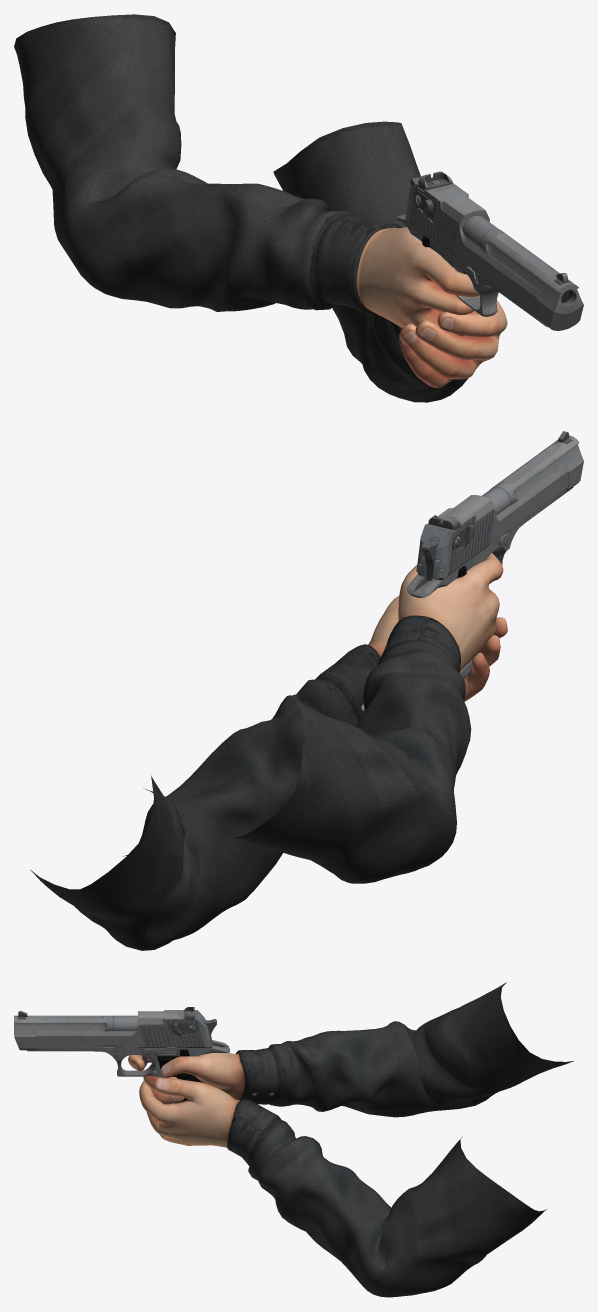
File: idle_static (2).glb
3 views of the same model, one above another, from view 1: azimuth 30°, elevation 25°; view 2: azimuth 150°, elevation 25°; view 3: azimuth 270°, elevation 25° (orthographic). The views are drawn at different scales.
Visible parts, largest first — view 1: Object_7, base, slide; view 2: Object_7, slide, base; view 3: Object_7, base, slide.
Boxes of the visible parts, x1,y1,x2,y2 form: Object_7: (14, 14, 507, 402); base: (395, 214, 583, 330); slide: (405, 171, 539, 315); Object_7: (30, 553, 507, 950); slide: (416, 465, 567, 578); base: (407, 431, 583, 677); Object_7: (128, 982, 573, 1297); base: (14, 1010, 229, 1103); slide: (36, 1007, 211, 1047).
Size of the model in its own units: 46.01 by 41.52 by 88.59.
Materials: 3 (2 with a texture image).
